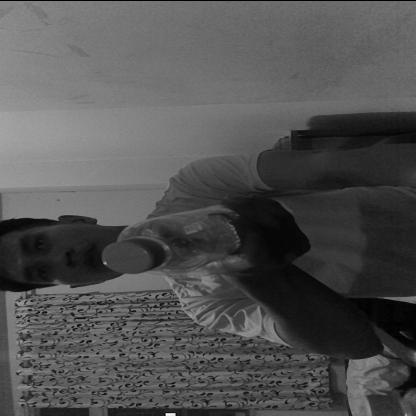plastic_bottles: (97, 190, 293, 274)
